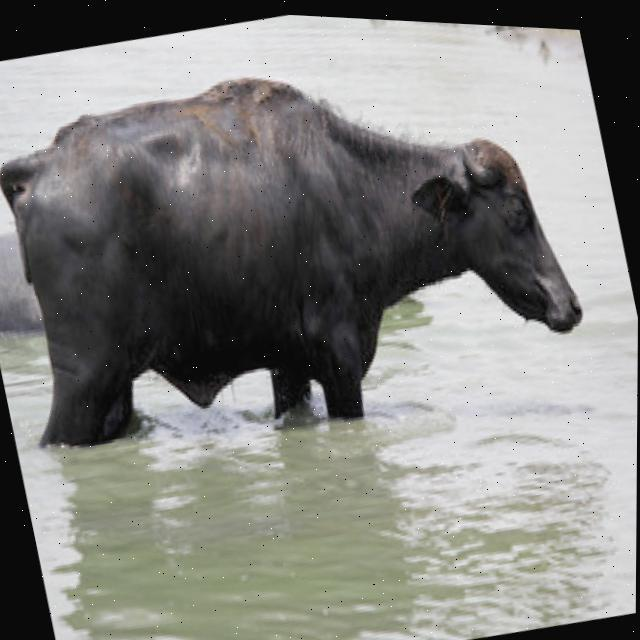Buffalo: (0, 0, 602, 502)
